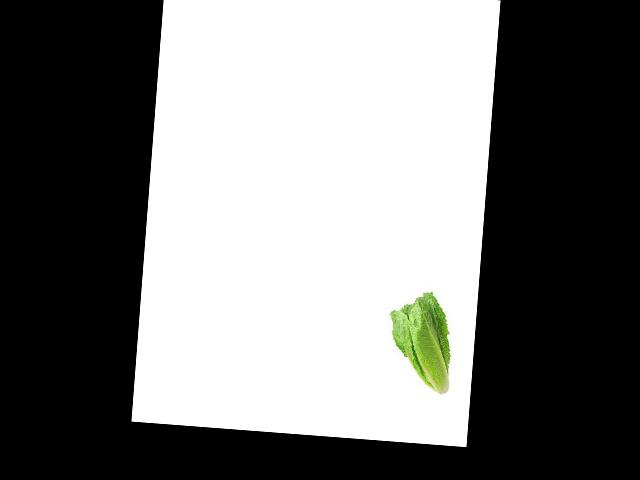lettuce: (379, 272, 478, 387)
